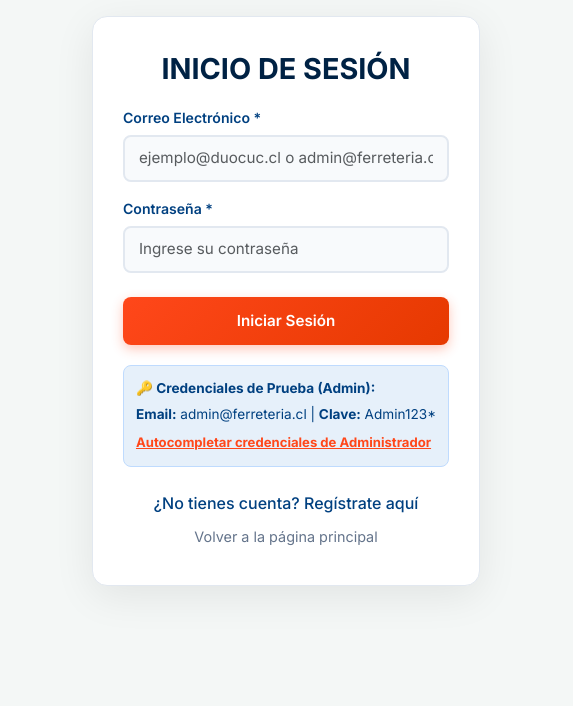
Scenario: Pruebas 6 y 7: Autenticación, Manejo de Errores y Sesión en localStorage › debe mostrar mensaje de error al ingresar credenciales incorrectas en el Login
Type "usuario_invalido@correo.cl" into the field labelled "Correo Electrónico *" at (286, 158), box [123,135,449,182]
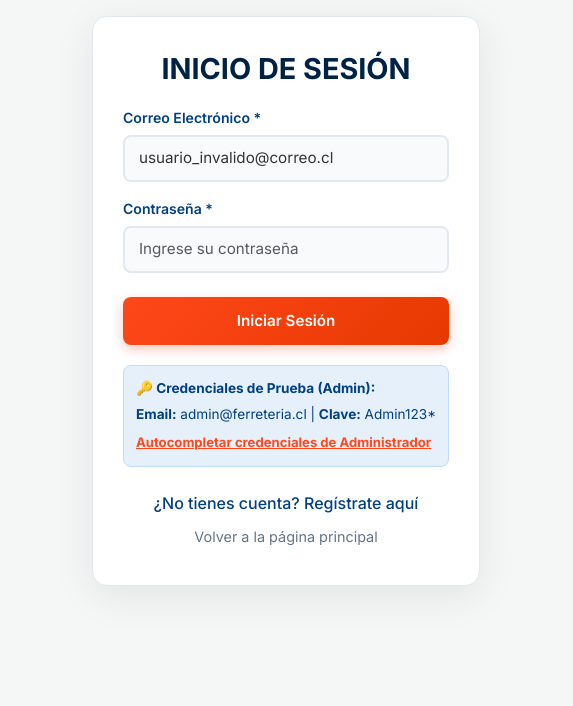
Type "ClaveErronea123" into the password field labelled "Contraseña *" at (286, 250), box [123,226,449,273]
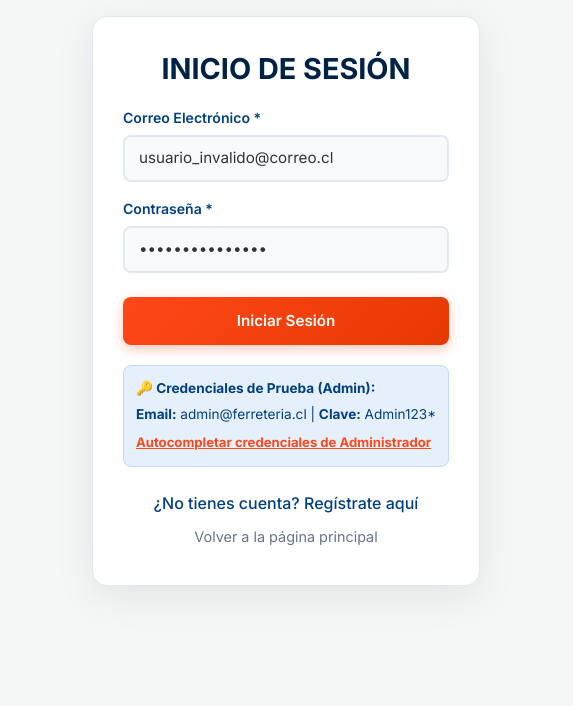
Click the button "Iniciar Sesión" at (286, 321), box [123,297,449,345]
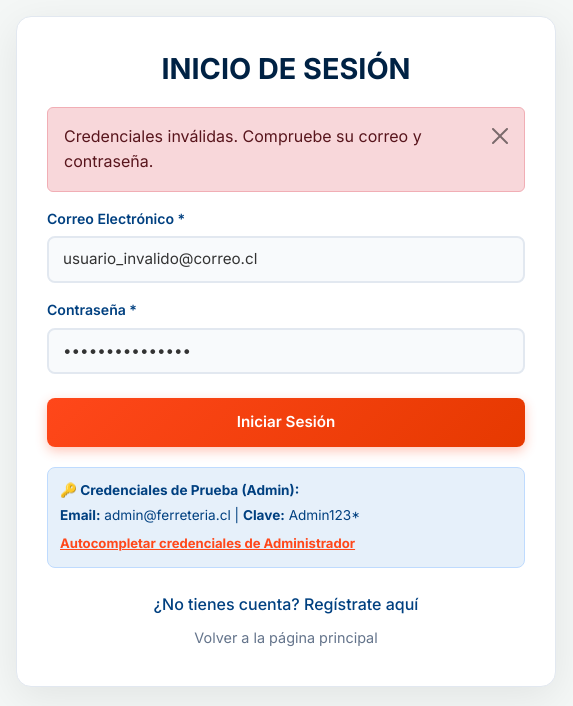
Expected: the message "Credenciales inválidas. Compruebe su correo y contraseña." is shown, [47,106,525,192]
Expected: the message shows "Credenciales inválidas", [64,126,422,171]
